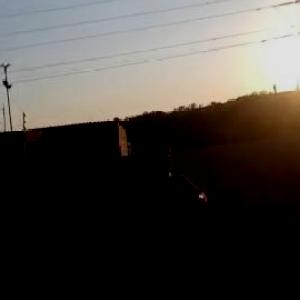follow: (128, 137, 214, 299)
